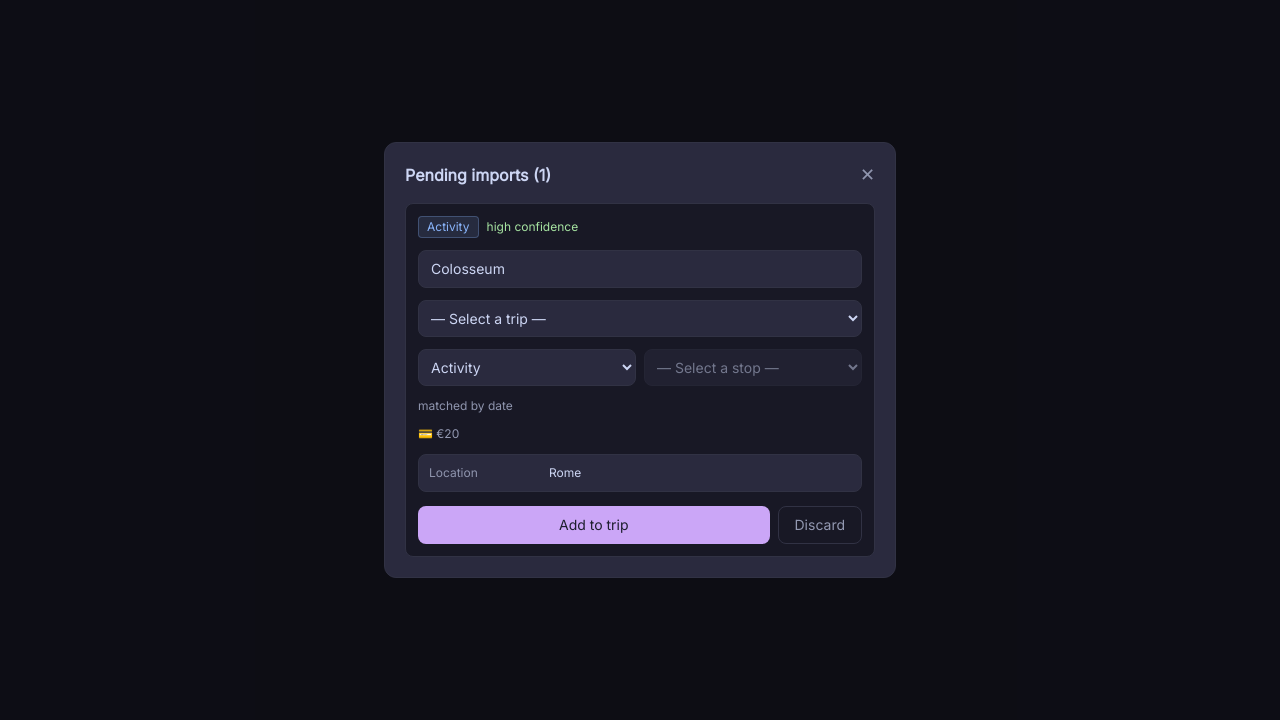
Test case: PendingReview › global mode (no tripId): blocks apply until a trip is picked
Check: the field showing "Colosseum" is shown, box [418,250,862,288]
Step 1. Click the button "Add to trip" → click(594, 525), box [418,506,770,544]
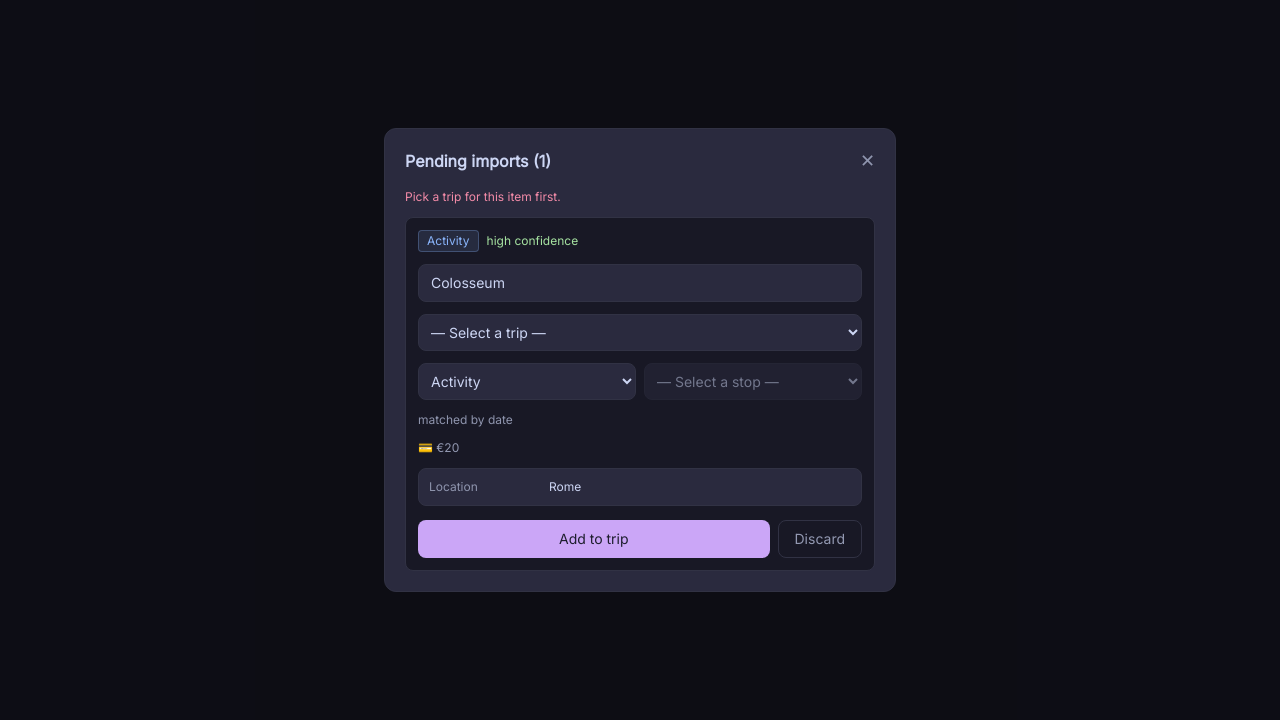
Check: the text "Pick a trip for this item first." is shown, box [405,189,561,204]
